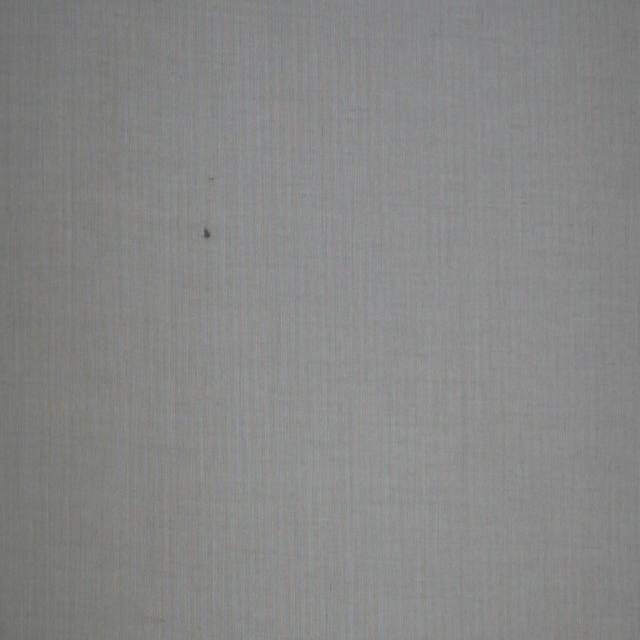dirty: (202, 222, 212, 241)
